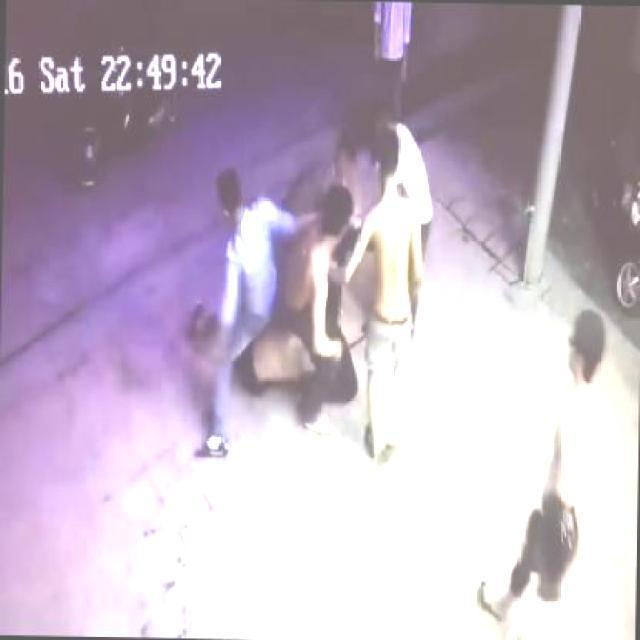fight: (200, 86, 443, 443)
